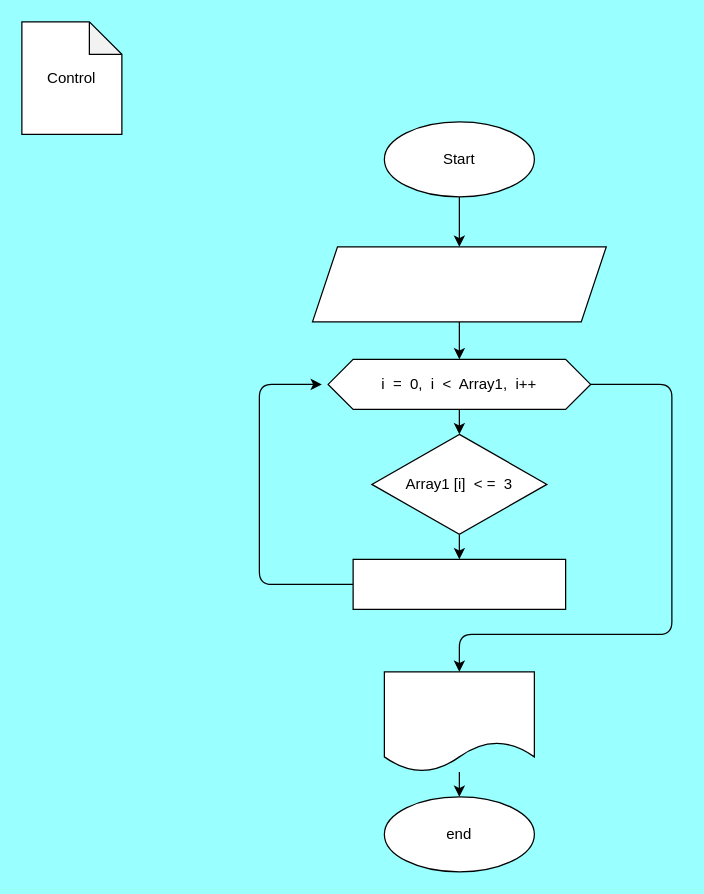
Image size: 704x894. Some labels were removed from this diagram. The shapes that lost their labels are listed below. From the top down, each one's box as (x1, y1, x2, y2) in pixels, then its label:
(311, 246, 606, 322): Array1 [ word, vr, massala, 69 ] Array2 [ ] count = 0
(352, 558, 566, 609): Array2 [ count] = Array1[i] count++
(383, 671, 534, 772): Array2
